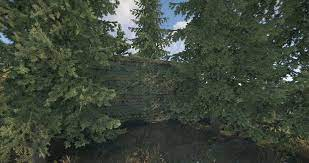tree: (18, 1, 70, 149), (240, 1, 288, 140), (199, 1, 222, 126), (136, 1, 163, 58)
